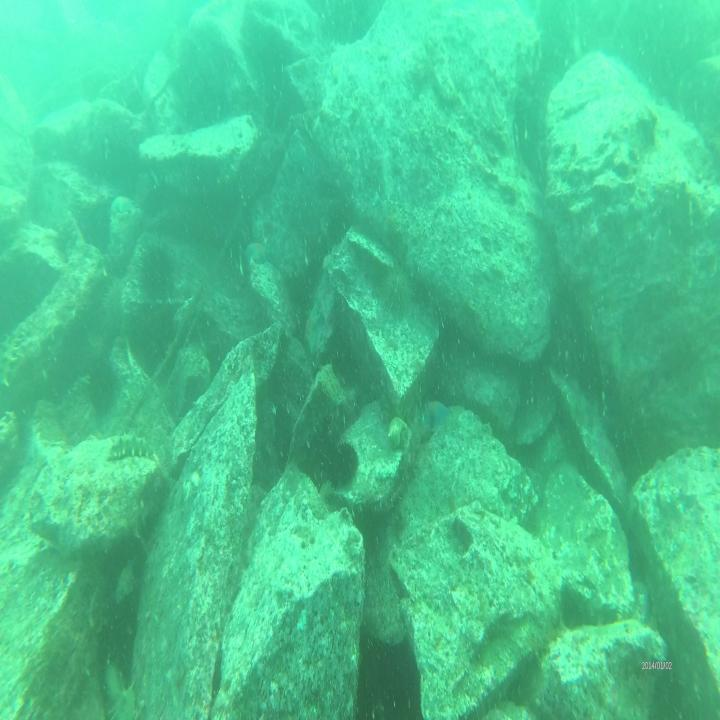echinus: (134, 235, 182, 308), (82, 352, 126, 414), (321, 438, 362, 496), (377, 263, 417, 320), (95, 274, 124, 336)
holothurian: (0, 317, 37, 400), (104, 426, 153, 468), (103, 681, 139, 720)
starfish: (418, 392, 450, 438), (241, 240, 273, 266)
